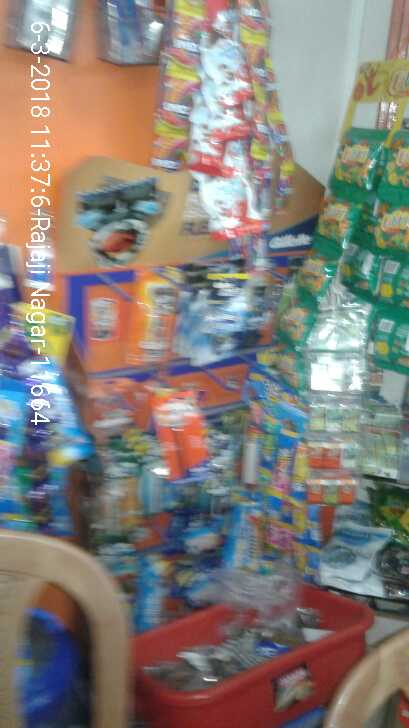reject: (149, 263, 284, 521)
